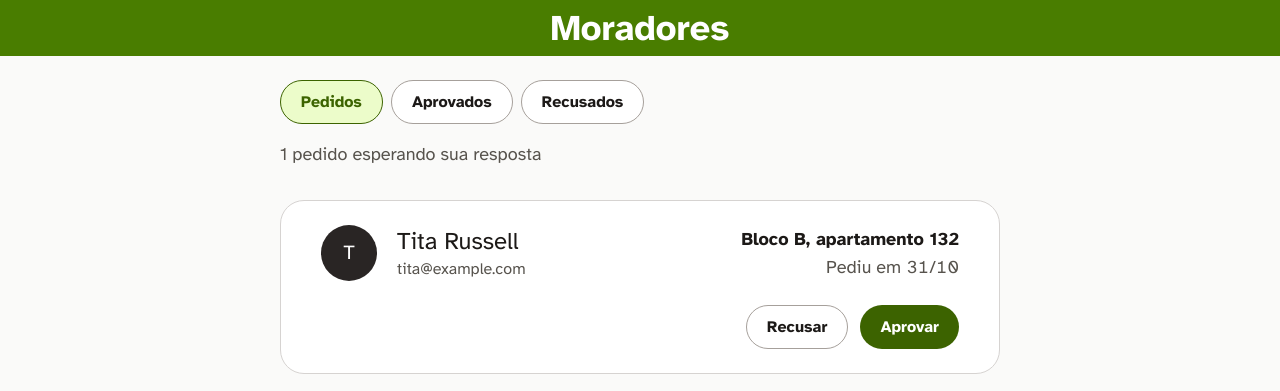
Scenario: Residents, changing a decision › says when the Aprovados list is empty
Step 1. Click the button "Aprovados" → point(452, 102), box [391,80,513,124]
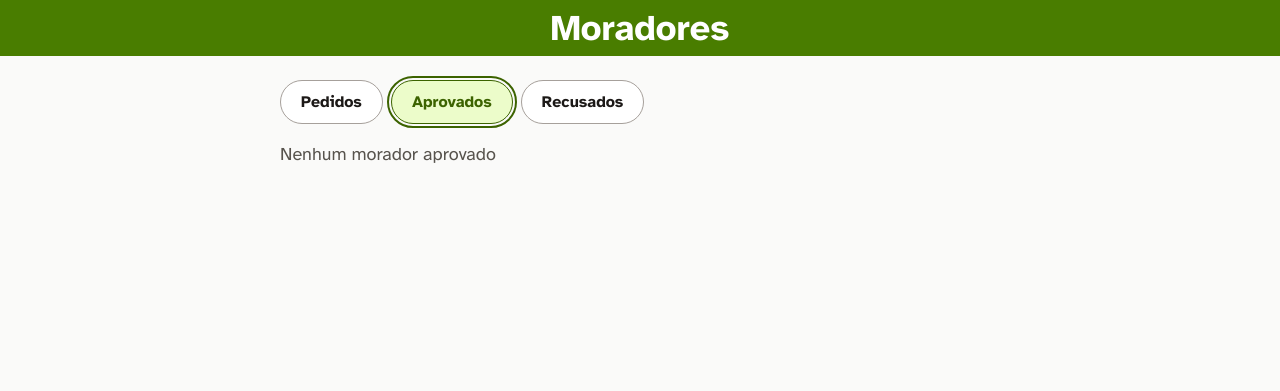
Expected: the text "Nenhum morador aprovado" is shown, [280,143,496,165]
